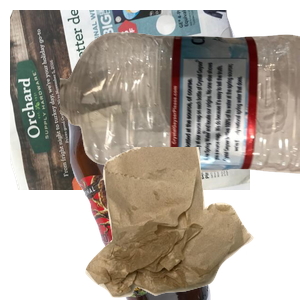glass: (65, 120, 300, 300)
paper: (10, 10, 250, 190)
plastic: (60, 30, 300, 196)
trash: (83, 147, 300, 300)
